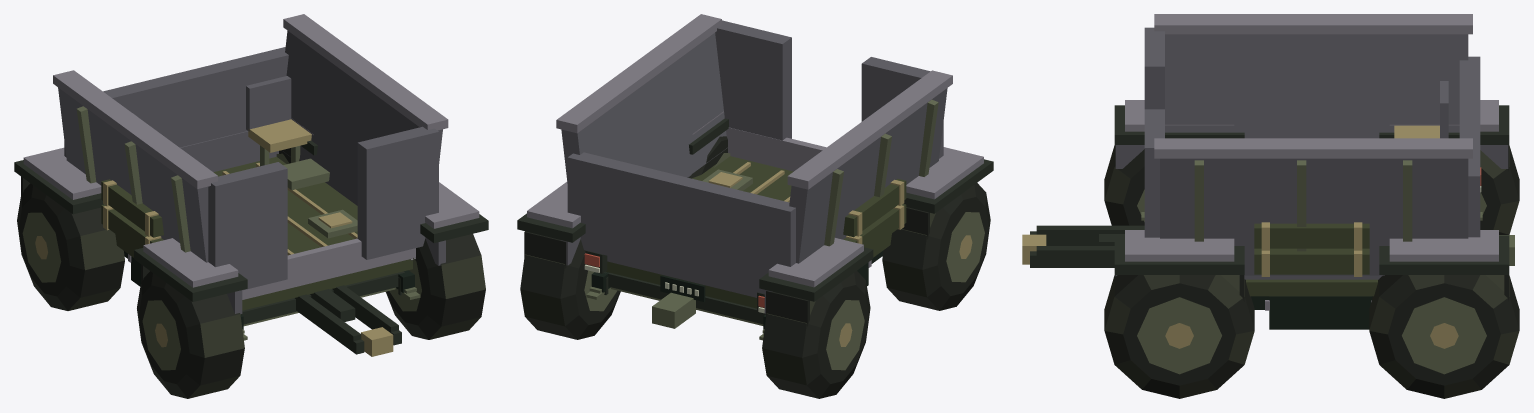
File: military_wagon_anti_tank.glb
The picture shows the model from 3 angles, left to right: view 1: azimuth 30°, elevation 25°; view 2: azimuth 150°, elevation 25°; view 3: azimuth 270°, elevation 25°; orthographic projection. The views are drawn at different scales.
Visible parts, largest first — view 1: WagonDetails_anti_tank, WagonDeck.004, AllTerrainTire.016, AllTerrainTire.018, AllTerrainTire.017, DrawbarFrame.004; view 2: WagonDetails_anti_tank, WagonDeck.004, AllTerrainTire.018, AllTerrainTire.016, AllTerrainTire.019, AllTerrainTire.017; view 3: WagonDetails_anti_tank, WagonDeck.004, AllTerrainTire.017, AllTerrainTire.019, AllTerrainTire.018, AllTerrainTire.016, DrawbarFrame.004.
Boxes of the visible parts, x1,y1,x2,y2 form: WagonDetails_anti_tank: (53, 14, 448, 290); WagonDeck.004: (14, 76, 488, 346); AllTerrainTire.016: (137, 271, 244, 398); AllTerrainTire.018: (17, 183, 124, 310); AllTerrainTire.017: (386, 234, 485, 339); DrawbarFrame.004: (296, 291, 401, 356); WagonDetails_anti_tank: (556, 14, 952, 293); WagonDeck.004: (517, 111, 993, 340); AllTerrainTire.018: (762, 271, 870, 398); AllTerrainTire.016: (882, 183, 990, 310); AllTerrainTire.019: (520, 239, 620, 339); AllTerrainTire.017: (688, 136, 730, 178); WagonDetails_anti_tank: (1144, 14, 1480, 276); WagonDeck.004: (1036, 81, 1514, 329); AllTerrainTire.017: (1104, 275, 1254, 398); AllTerrainTire.019: (1369, 275, 1519, 398); AllTerrainTire.018: (1480, 145, 1519, 234); AllTerrainTire.016: (1104, 145, 1144, 225); DrawbarFrame.004: (1022, 231, 1114, 267).
Bounding box in the file's own units: 4.48 × 3.12 × 5.82.
Materials: 2 (2 with a texture image).
